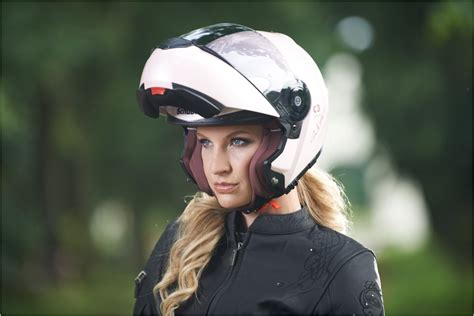com_capacete: (136, 22, 330, 213)
